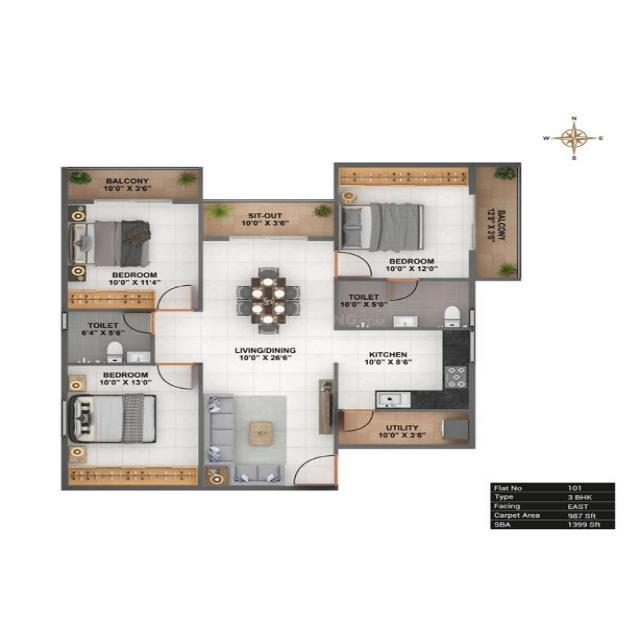Balcony-Sitout: (476, 161, 523, 281), (201, 200, 340, 239), (61, 167, 204, 204)
Bedroom: (61, 363, 203, 490), (337, 162, 474, 281), (62, 198, 201, 311)
Dining: (233, 266, 303, 340)
Kitchen: (336, 328, 474, 412)
Living: (199, 362, 340, 491)
Toilet: (336, 279, 475, 331), (61, 309, 157, 364)
Utility: (339, 409, 476, 449)
